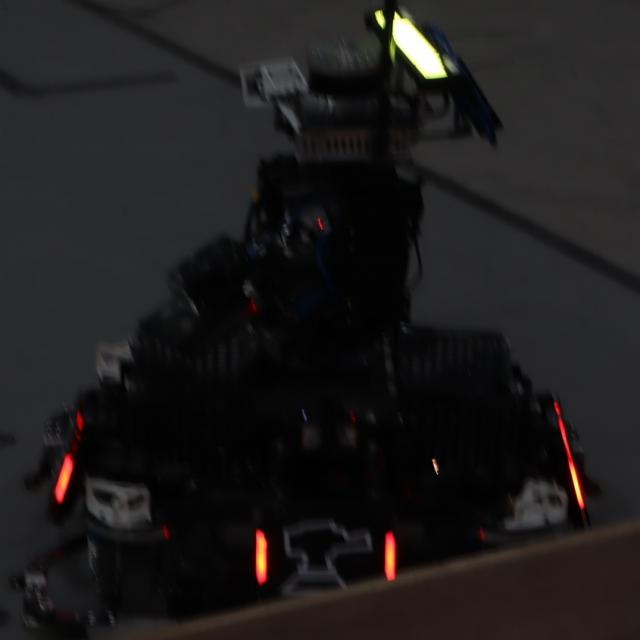Rs: (252, 516, 398, 595)
